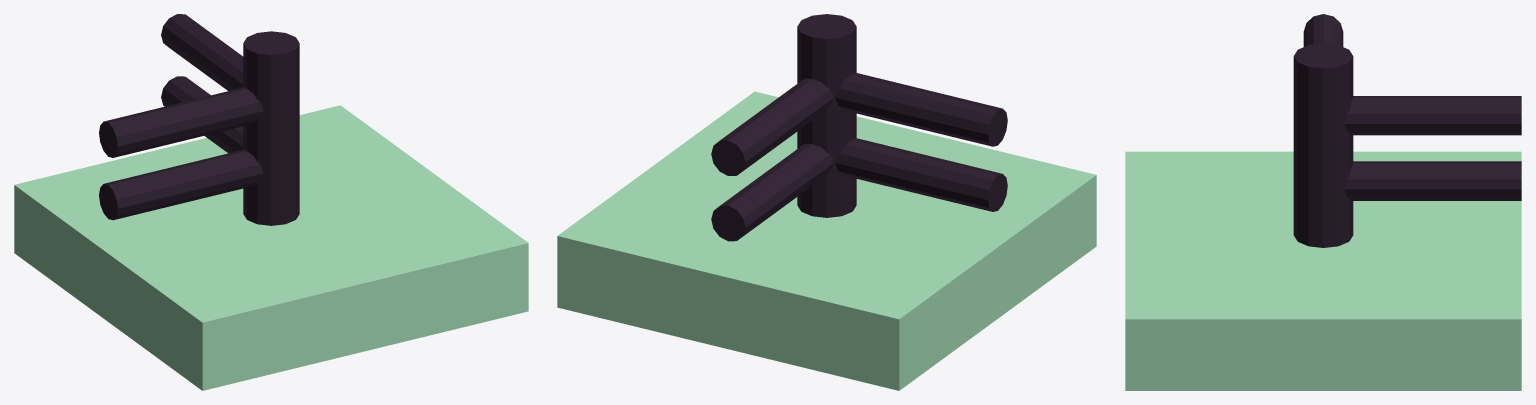
File: FenceCorner.fbx
3 renders of one model, left to right at view 1: azimuth 30°, elevation 25°; view 2: azimuth 150°, elevation 25°; view 3: azimuth 270°, elevation 25°, orthographic. The views are drawn at different scales.
Visible parts, largest first — view 1: FenceCorner; view 2: FenceCorner; view 3: FenceCorner.
Boxes of the visible parts, box(x1,y1,x2,y2) form: FenceCorner: box(14, 14, 528, 390); FenceCorner: box(557, 14, 1096, 390); FenceCorner: box(1125, 14, 1521, 390).
Size of the model in its own units: 200 by 140 by 200.
